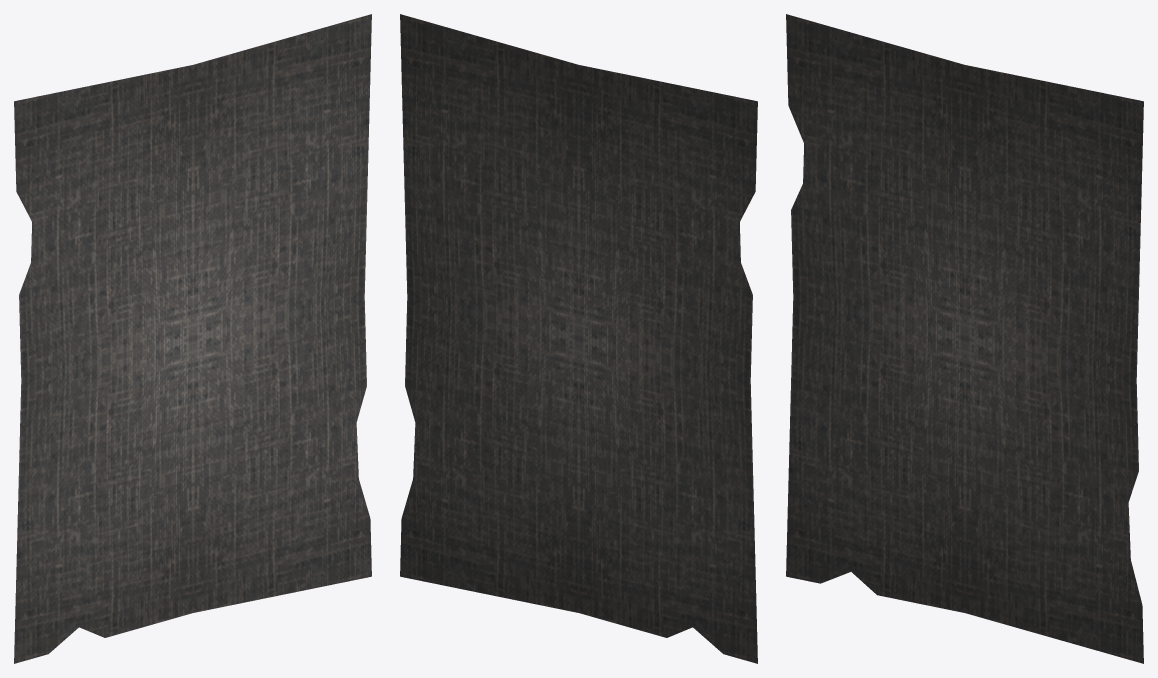
File: Carpet_B.fbx
3 views of the same model, side by side, from view 1: azimuth 30°, elevation 25°; view 2: azimuth 150°, elevation 25°; view 3: azimuth 330°, elevation 25° (orthographic).
Parts seen in each view (by area): view 1: Carpet_B; view 2: Carpet_B; view 3: Carpet_B.
Boxes of the visible parts, x1,y1,x2,y2 form: Carpet_B: (14,14,371,663); Carpet_B: (400,14,757,663); Carpet_B: (786,14,1143,663).
Size of the model in its own units: 2.42 by 3.63 by 4.77e-07.
